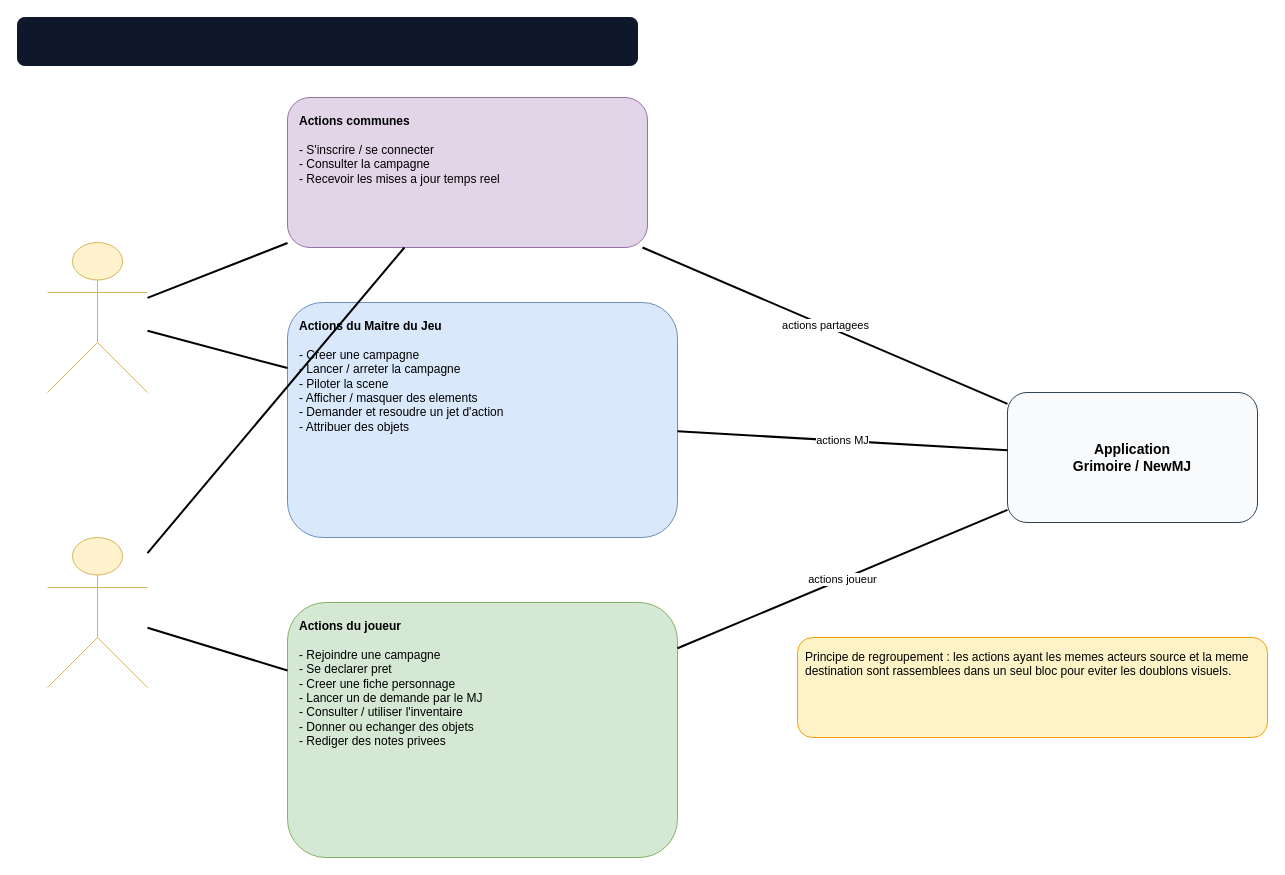
Some shapes in this 1285 by 875 pixel diagram are drawn without their labels. Each missing label, with the centre of its shape:
Cas d'utilisation regroupes - Grimoire / NewMJ: (x=327, y=41)
Joueur: (x=97, y=612)
Maitre du Jeu: (x=97, y=317)
